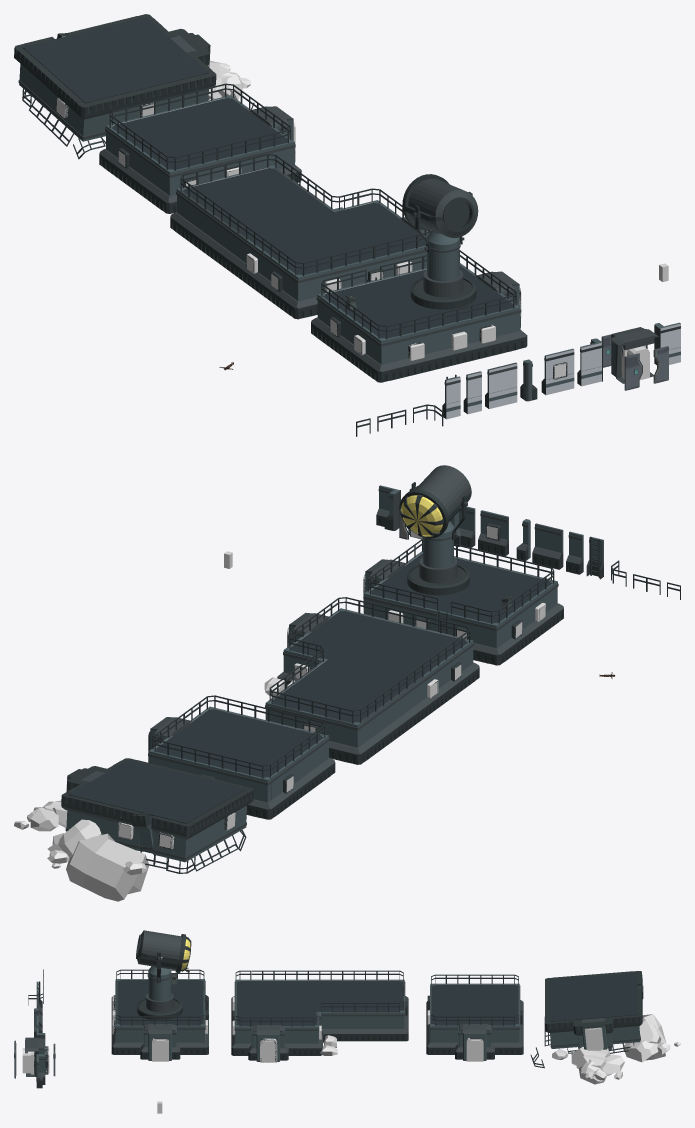
The model's file is SooM_ModularBuidlings_Setv5.fbx.
3 renders of one model, top to bottom at view 1: azimuth 30°, elevation 25°; view 2: azimuth 150°, elevation 25°; view 3: azimuth 270°, elevation 25°, orthographic. The views are drawn at different scales.
Parts seen in each view (by area): view 1: Ceiling.002, Ceiling.005, Ceiling.003, Ceiling, Cylinder, Cylinder.002, SpaceB_Wall4u.002, SpaceB_Fence2u.010, SpaceB_Wall2u.009, SpaceB_Corner.004, SpaceB_Wall4u, SpaceB_DoorFrame (+21 smaller); view 2: Ceiling.002, Ceiling.003, Ceiling.005, Ceiling, SpaceB_Wall4u.002, Cube.122, SpaceB_Fence2u.010, Cylinder, Cylinder.002, SpaceB_Corner.005, SpaceB_Corner.001, SpaceB_Wall4u (+13 smaller); view 3: Ceiling.002, Ceiling.005, Ceiling.003, SpaceB_DoorSideR.003, Ceiling, SpaceB_Fence2u.010, Cylinder.002, Cylinder, SpaceB_Corner.013, SpaceB_Wall2u.002, SpaceB_Wall2u.004, SpaceB_Wall2u.003 (+21 smaller).
Boxes of the visible parts, left/top/right/bottom form: Ceiling.002: left=183, top=168, right=426, bottom=275; Ceiling.005: left=22, top=17, right=208, bottom=103; Ceiling.003: left=112, top=98, right=287, bottom=170; Ceiling: left=323, top=265, right=513, bottom=338; Cylinder: left=410, top=191, right=476, bottom=309; Cylinder.002: left=402, top=174, right=478, bottom=237; SpaceB_Wall4u.002: left=170, top=180, right=245, bottom=278; SpaceB_Fence2u.010: left=180, top=154, right=432, bottom=276; SpaceB_Wall2u.009: left=365, top=332, right=404, bottom=382; SpaceB_Corner.004: left=68, top=94, right=107, bottom=141; SpaceB_Wall4u: left=485, top=362, right=517, bottom=408; SpaceB_DoorFrame: left=610, top=327, right=658, bottom=383; Ceiling.002: left=272, top=611, right=467, bottom=722; Ceiling.003: left=155, top=709, right=322, bottom=777; Ceiling.005: left=68, top=760, right=245, bottom=823; Ceiling: left=371, top=553, right=551, bottom=623; SpaceB_Wall4u.002: left=325, top=677, right=428, bottom=764; Cube.122: left=66, top=833, right=148, bottom=901; SpaceB_Fence2u.010: left=269, top=597, right=470, bottom=723; Cylinder: left=407, top=482, right=469, bottom=595; Cylinder.002: left=399, top=465, right=471, bottom=538; SpaceB_Corner.005: left=475, top=617, right=512, bottom=665; SpaceB_Corner.001: left=246, top=772, right=283, bottom=819; SpaceB_Wall4u: left=532, top=523, right=563, bottom=569; Ceiling.002: left=237, top=981, right=402, bottom=1026; Ceiling.005: left=550, top=972, right=637, bottom=1021; Ceiling.003: left=432, top=984, right=517, bottom=1025; SpaceB_DoorSideR.003: left=316, top=1001, right=408, bottom=1042; Ceiling: left=117, top=980, right=203, bottom=1025; SpaceB_Fence2u.010: left=235, top=970, right=403, bottom=1026; Cylinder.002: left=136, top=930, right=191, bottom=973; Cylinder: left=137, top=952, right=182, bottom=1019; SpaceB_Corner.013: left=280, top=1025, right=322, bottom=1060; SpaceB_Wall2u.002: left=486, top=1019, right=523, bottom=1059; SpaceB_Wall2u.004: left=111, top=1020, right=148, bottom=1059; SpaceB_Wall2u.003: left=172, top=1019, right=208, bottom=1059.
Bounding box in the file's own units: 5997 × 2550 × 11659.
